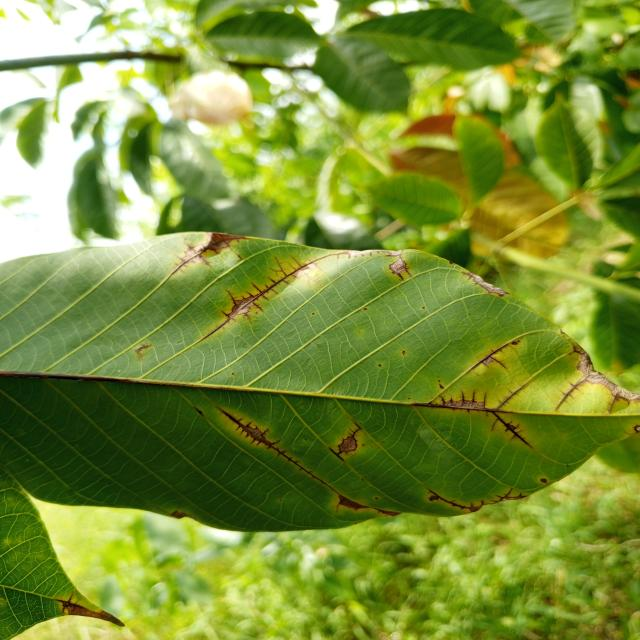Colletotrichum: (633, 425, 640, 432), (540, 478, 547, 483), (402, 351, 406, 354), (363, 308, 368, 310), (500, 294, 503, 297), (378, 364, 382, 366), (312, 313, 315, 315), (422, 307, 425, 309)
Corynespora: (203, 251, 347, 340), (215, 406, 339, 494), (169, 233, 252, 276), (410, 390, 513, 415), (491, 412, 533, 448), (329, 420, 362, 460), (473, 342, 510, 372), (552, 380, 584, 412), (428, 489, 473, 509), (491, 384, 524, 410), (384, 254, 410, 281), (52, 592, 84, 612), (490, 487, 514, 503), (604, 394, 620, 414), (134, 343, 152, 360)
Leaf-Blight: (577, 350, 640, 400), (473, 273, 509, 295), (338, 494, 368, 510), (374, 508, 402, 517), (170, 510, 188, 519)
